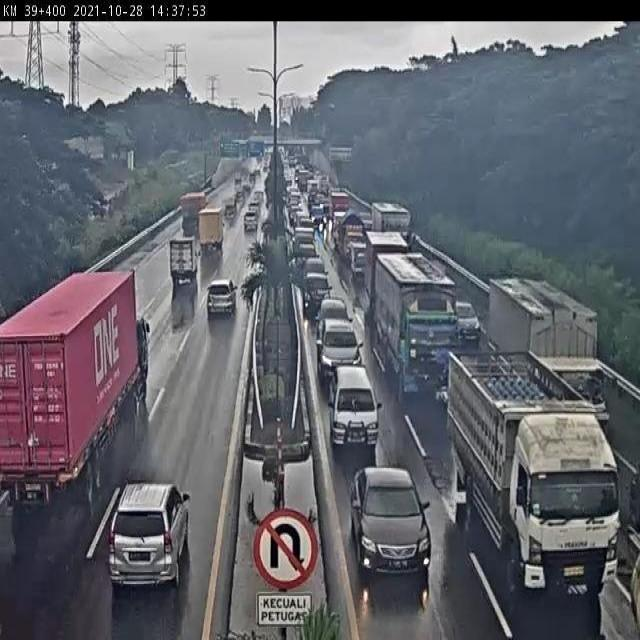Car: (351, 468, 428, 578), (106, 483, 186, 588), (315, 317, 364, 383), (315, 297, 355, 335), (302, 272, 333, 318), (453, 298, 482, 342), (207, 280, 236, 316), (301, 254, 329, 286), (294, 242, 318, 268), (308, 204, 327, 226), (358, 210, 375, 232), (243, 209, 258, 232), (248, 198, 260, 213)
Truck: (446, 347, 628, 602), (0, 266, 154, 516), (487, 274, 616, 437), (373, 248, 458, 396), (365, 229, 411, 312), (370, 200, 420, 250), (168, 234, 202, 286), (338, 208, 365, 261), (179, 190, 210, 234), (197, 208, 226, 252), (348, 240, 371, 280), (329, 190, 352, 216), (332, 210, 348, 229)
Van: (328, 366, 380, 450)
